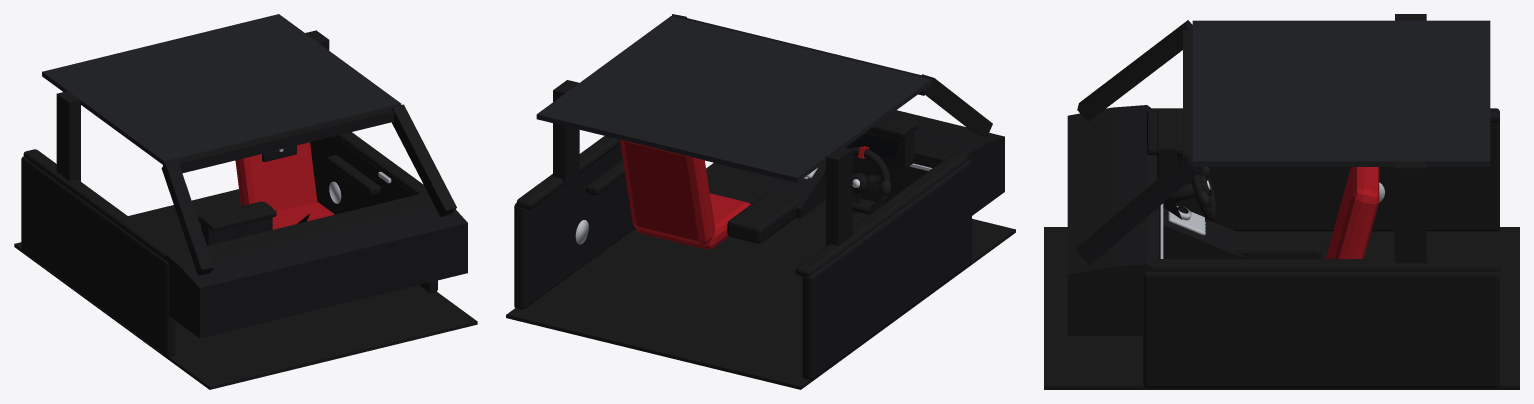
Rendered from int_honda.glb.
3 renders of one model, left to right at view 1: azimuth 30°, elevation 25°; view 2: azimuth 150°, elevation 25°; view 3: azimuth 270°, elevation 25°, orthographic. The views are drawn at different scales.
Visible parts, largest first — view 1: box.012, Dash, box.016, box.001, box.017, box.005, box.011, box.002, beam.001, beam, box.009, box.020 (+4 smaller); view 2: box.012, box.016, box.001, box.005, box.017, Dash, box.002, box.009, box.021, box.010, Stack, beam (+8 smaller); view 3: box.012, box.005, Dash, box.016, box.001, box.006, box.017, box.010, beam.001, beam, box.021, Stack (+5 smaller).
Part boxes in pixels (box(x1,y1,x2,y2)): box.012: box(42, 14, 401, 164); Dash: box(163, 192, 467, 338); box.016: box(14, 189, 477, 389); box.001: box(21, 156, 175, 357); box.017: box(235, 142, 317, 211); box.005: box(310, 136, 437, 292); box.011: box(163, 108, 402, 173); box.002: box(23, 149, 177, 260); beam.001: box(391, 104, 456, 216); beam: box(161, 160, 214, 275); box.009: box(56, 91, 80, 181); box.020: box(201, 202, 272, 245); box.012: box(536, 16, 931, 182); box.016: box(506, 163, 1015, 389); box.001: box(802, 160, 971, 380); box.005: box(514, 144, 635, 309); box.017: box(620, 139, 715, 244); Dash: box(705, 110, 1004, 215); box.002: box(795, 152, 969, 276); box.009: box(826, 146, 852, 245); box.021: box(727, 191, 799, 243); box.010: box(553, 80, 579, 183); Stack: box(757, 162, 825, 218); beam: box(921, 74, 992, 137); box.012: box(1192, 20, 1490, 166); box.005: box(1143, 271, 1499, 387); Dash: box(1067, 105, 1160, 335); box.016: box(1044, 227, 1519, 389); box.001: box(1175, 120, 1499, 231); box.006: box(1149, 259, 1499, 271); box.017: box(1325, 167, 1379, 258); box.010: box(1395, 161, 1426, 263); beam.001: box(1077, 154, 1198, 265); beam: box(1077, 20, 1192, 121); box.021: box(1229, 232, 1321, 258); Stack: box(1163, 207, 1242, 258).
Size of the model in its own units: 1.93 by 1.22 by 2.4.
